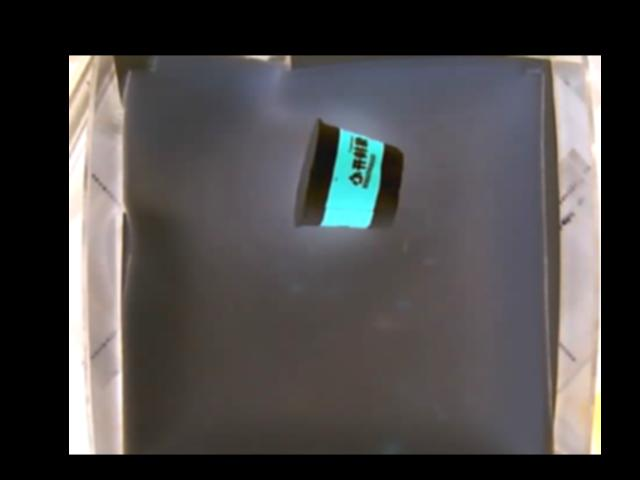Cup: (292, 116, 403, 228)
